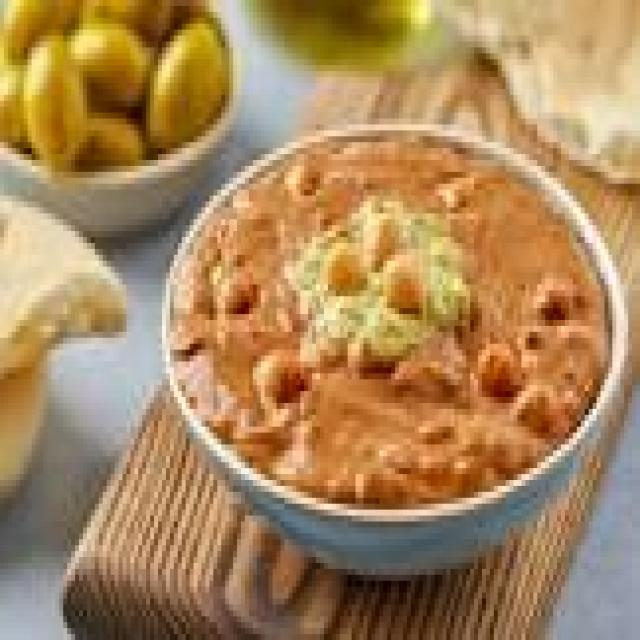fool: (158, 144, 611, 513)
